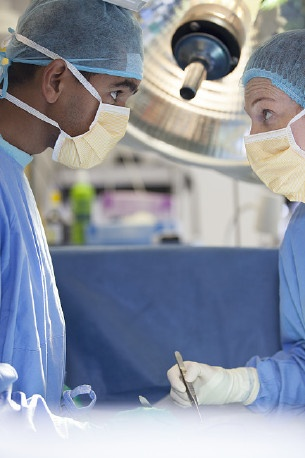Mask: (47, 70, 144, 167)
